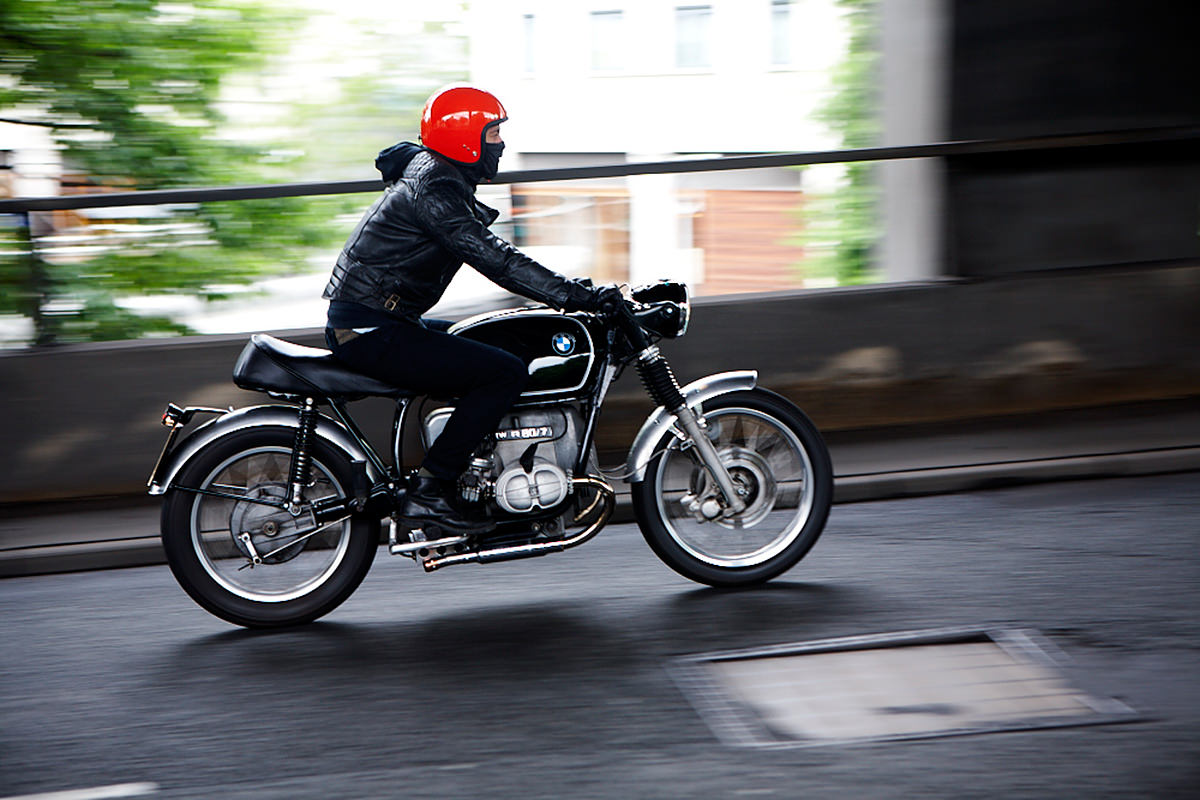helmet: (399, 76, 516, 194)
